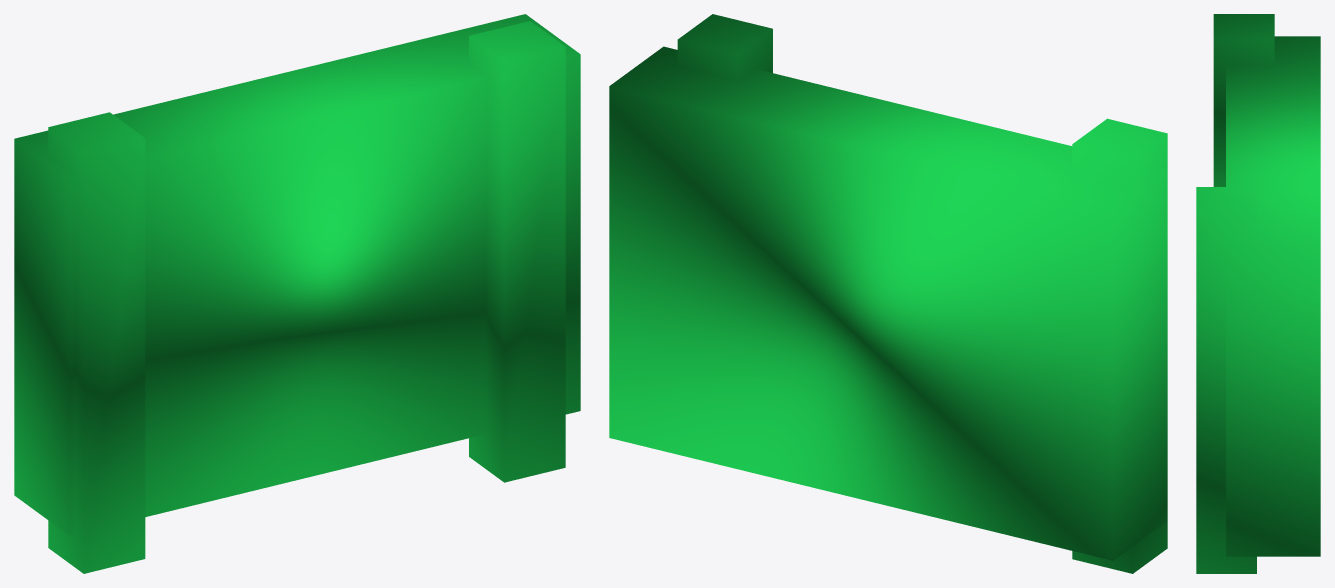
The model's file is ps2_jrpg_highland_stone_wall_section.obj.
3 renders of one model, left to right at view 1: azimuth 30°, elevation 25°; view 2: azimuth 150°, elevation 25°; view 3: azimuth 270°, elevation 25°, orthographic. The views are drawn at different scales.
Size of the model in its own units: 1.5 by 1.18 by 0.3685.
